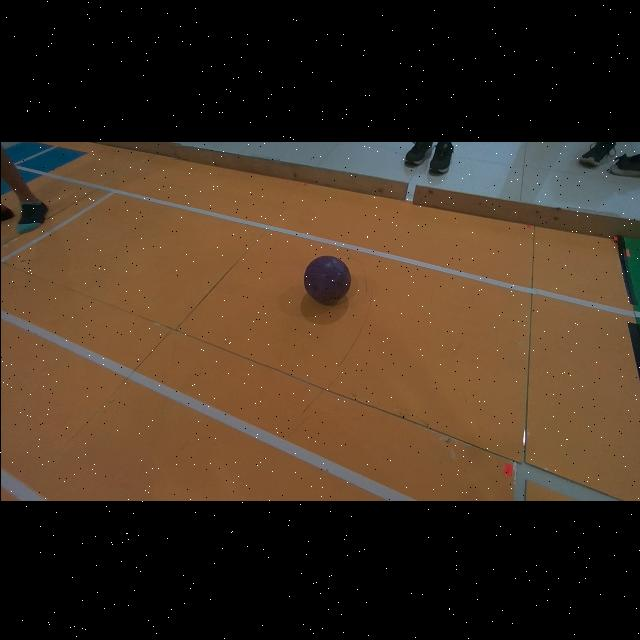P: (302, 255, 349, 304)
